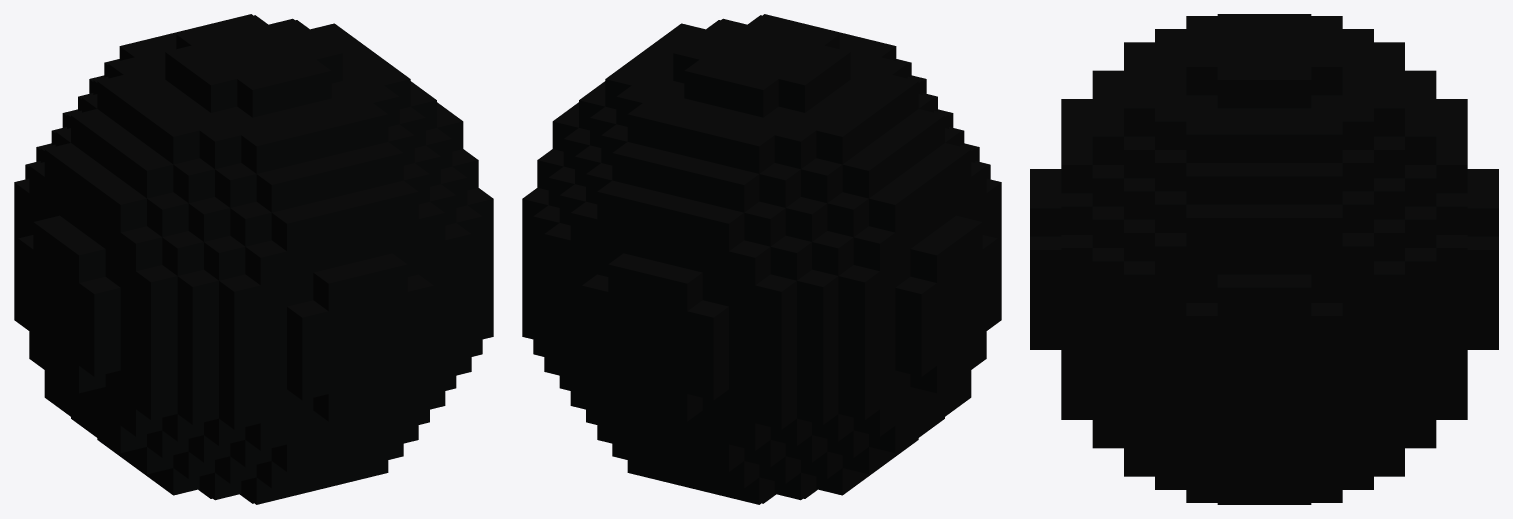
Rendered from Black Ball.fbx.
The picture shows the model from 3 angles, left to right: view 1: azimuth 30°, elevation 25°; view 2: azimuth 150°, elevation 25°; view 3: azimuth 270°, elevation 25°; orthographic projection. The views are drawn at different scales.
Visible parts, largest first — view 1: Untitled.001; view 2: Untitled.001; view 3: Untitled.001.
Part boxes in pixels (<box>): Untitled.001: <box>14,14,493,504</box>; Untitled.001: <box>522,14,1001,504</box>; Untitled.001: <box>1030,14,1498,504</box>.
Size of the model in its own units: 150 by 150 by 150.
